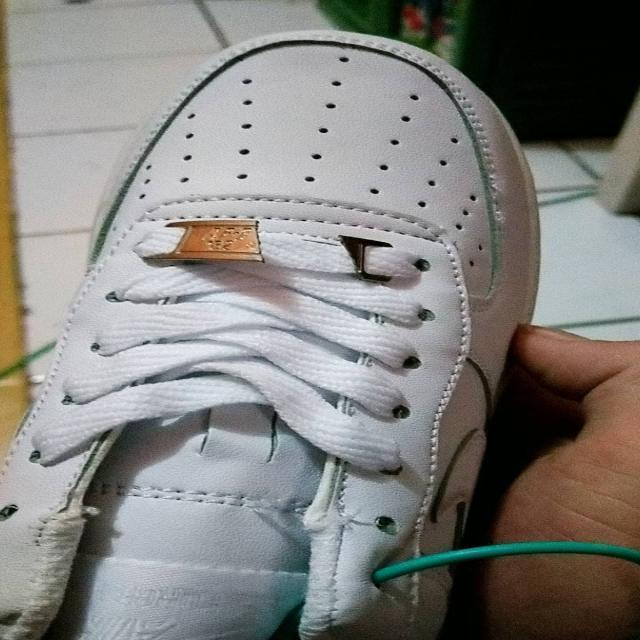nike fake air force: (0, 24, 541, 640)
